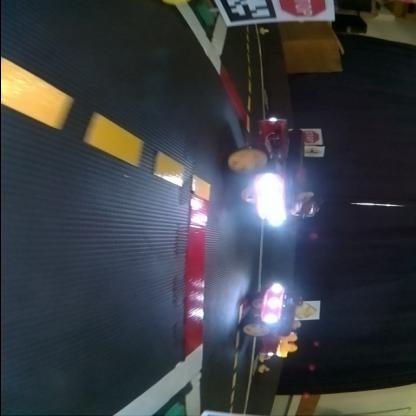Duckie: (258, 352, 270, 362), (260, 364, 270, 372), (261, 28, 268, 33)
Duckiebot: (231, 117, 304, 221), (239, 283, 295, 353)
Intersection sign: (306, 148, 322, 156)
QR code: (219, 0, 274, 24)
Stop sign: (279, 0, 331, 20), (304, 128, 318, 142)
